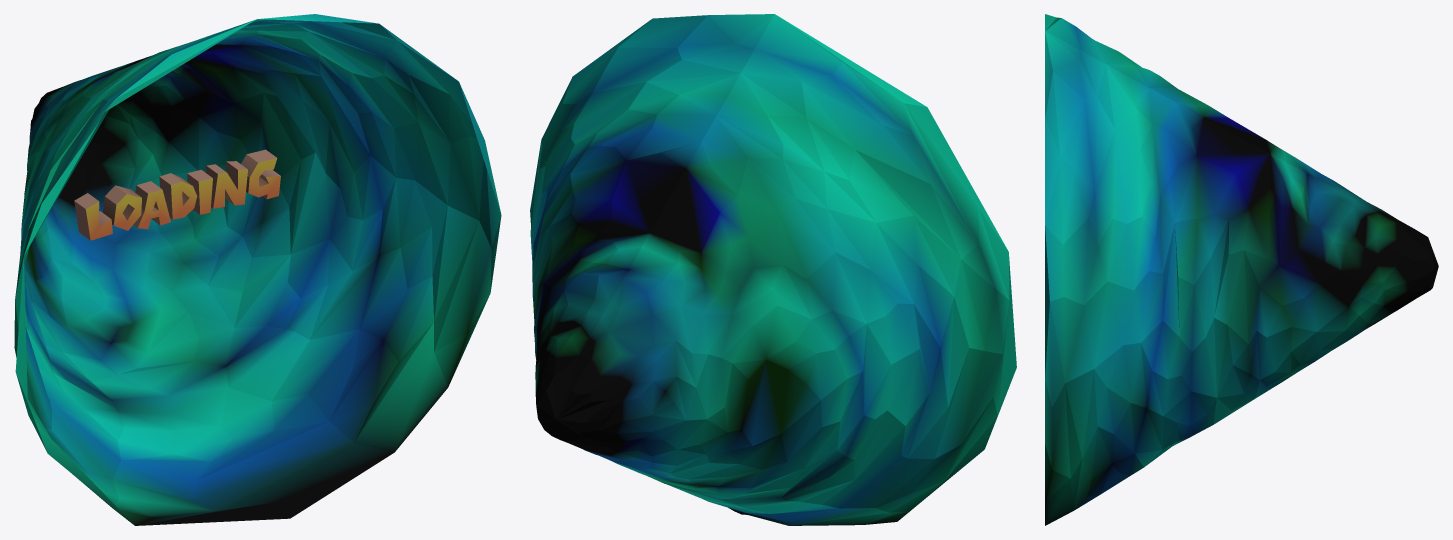
3 renders of one model, left to right at view 1: azimuth 30°, elevation 25°; view 2: azimuth 150°, elevation 25°; view 3: azimuth 270°, elevation 25°, orthographic. The views are drawn at different scales.
Parts seen in each view (by area): view 1: part1, part0; view 2: part1; view 3: part1.
Boxes of the visible parts, x1,y1,x2,y2 form: part1: [14, 14, 501, 525]; part0: [74, 149, 280, 240]; part1: [530, 14, 1016, 525]; part1: [1045, 14, 1438, 525].
Bounding box in the file's own units: 5.33 × 5.32 × 4.03.
